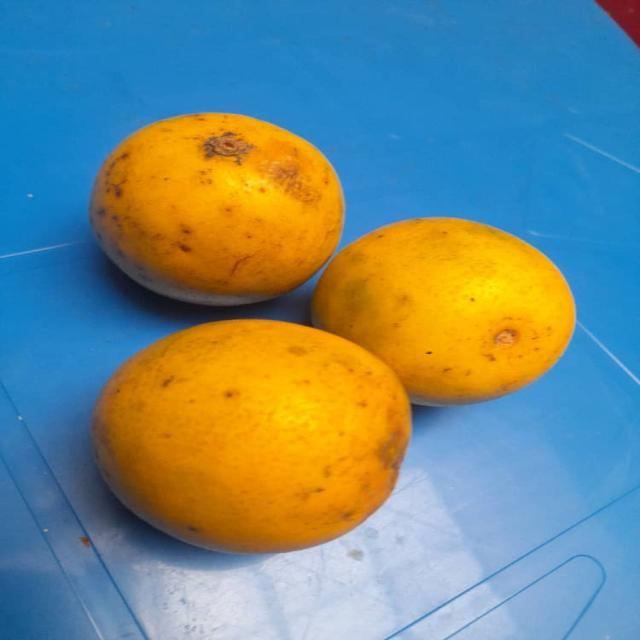Ripe orange: (89, 320, 414, 562), (73, 88, 352, 310), (310, 214, 582, 420)
